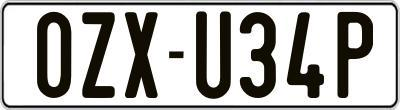0: (34, 12, 68, 102)
3: (239, 12, 277, 103)
4: (284, 10, 325, 97)
P: (335, 12, 372, 98)
U: (196, 8, 231, 100)
X: (122, 12, 155, 98)
Z: (80, 11, 116, 97)
